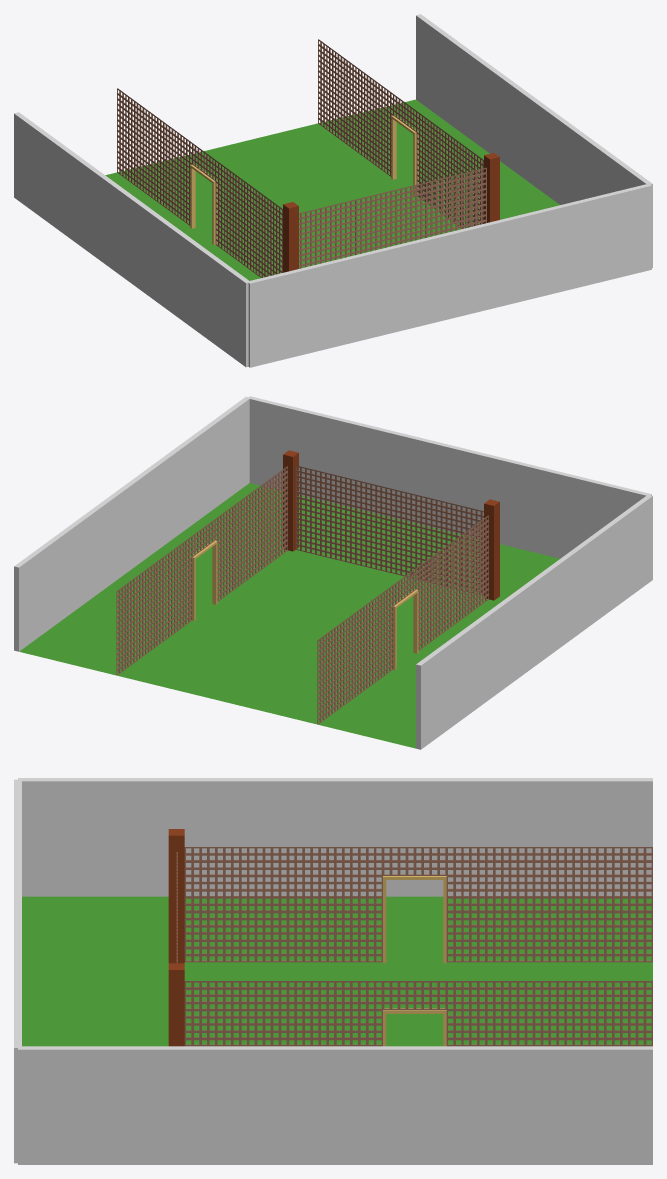
Rendered from courtyard.glb.
The picture shows the model from 3 angles, top to bottom: view 1: azimuth 30°, elevation 25°; view 2: azimuth 150°, elevation 25°; view 3: azimuth 270°, elevation 25°; orthographic projection. The views are drawn at different scales.
Visible parts, largest first — view 1: South wall, Ground, West wall, East wall, West divider, East divider, South divider, Southwest pillar, Southeast pillar, West arch, East arch; view 2: Ground, South wall, West wall, East wall, East divider, West divider, South divider, Southwest pillar, Southeast pillar, East arch, West arch; view 3: East wall, Ground, West wall, West divider, East divider, South wall, Southwest pillar, Southeast pillar, West arch, East arch.
Part boxes in pixels (box(x1,y1,x2,y2)): South wall: box(247, 184, 651, 367); Ground: box(105, 99, 559, 280); West wall: box(14, 112, 249, 367); East wall: box(416, 14, 652, 268); West divider: box(117, 88, 282, 277); East divider: box(318, 39, 483, 228); South divider: box(299, 167, 486, 268); Southwest pillar: box(283, 202, 298, 272); Southeast pillar: box(484, 153, 499, 223); West arch: box(190, 164, 217, 244); East arch: box(391, 115, 418, 194); Ground: box(19, 483, 559, 748); South wall: box(248, 396, 651, 558); West wall: box(416, 495, 652, 749); East wall: box(14, 396, 249, 651); East divider: box(116, 466, 287, 675); West divider: box(317, 515, 488, 724); South divider: box(295, 465, 483, 595); Southwest pillar: box(484, 499, 499, 600); Southeast pillar: box(283, 450, 298, 551); East arch: box(190, 540, 217, 620); West arch: box(391, 589, 418, 669); East wall: box(18, 1046, 652, 1164); Ground: box(22, 896, 652, 1046); West wall: box(18, 778, 652, 896); West divider: box(184, 847, 652, 962); East divider: box(184, 981, 652, 1046); South wall: box(14, 779, 21, 1163); Southwest pillar: box(168, 829, 184, 963); Southeast pillar: box(168, 963, 184, 1046); West arch: box(383, 876, 446, 963); East arch: box(383, 1008, 446, 1046).
Size of the model in its own units: 20.25 by 5 by 20.12.
